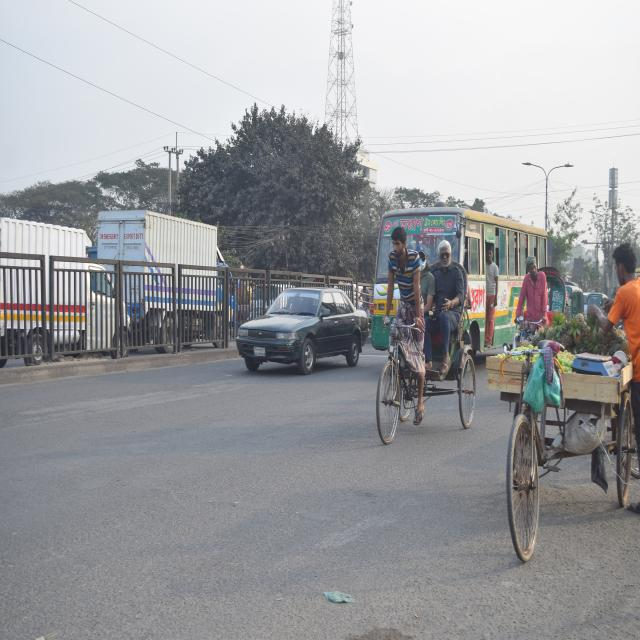bus: (375, 201, 544, 378)
car: (242, 289, 360, 375)
pickup-van: (92, 203, 232, 346)
truck: (0, 218, 124, 360)
